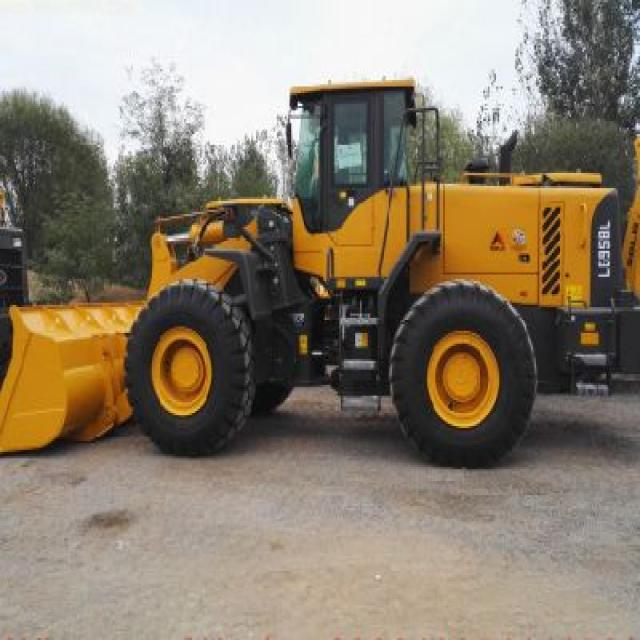buldozerpayloadergrader: (7, 74, 637, 466)
